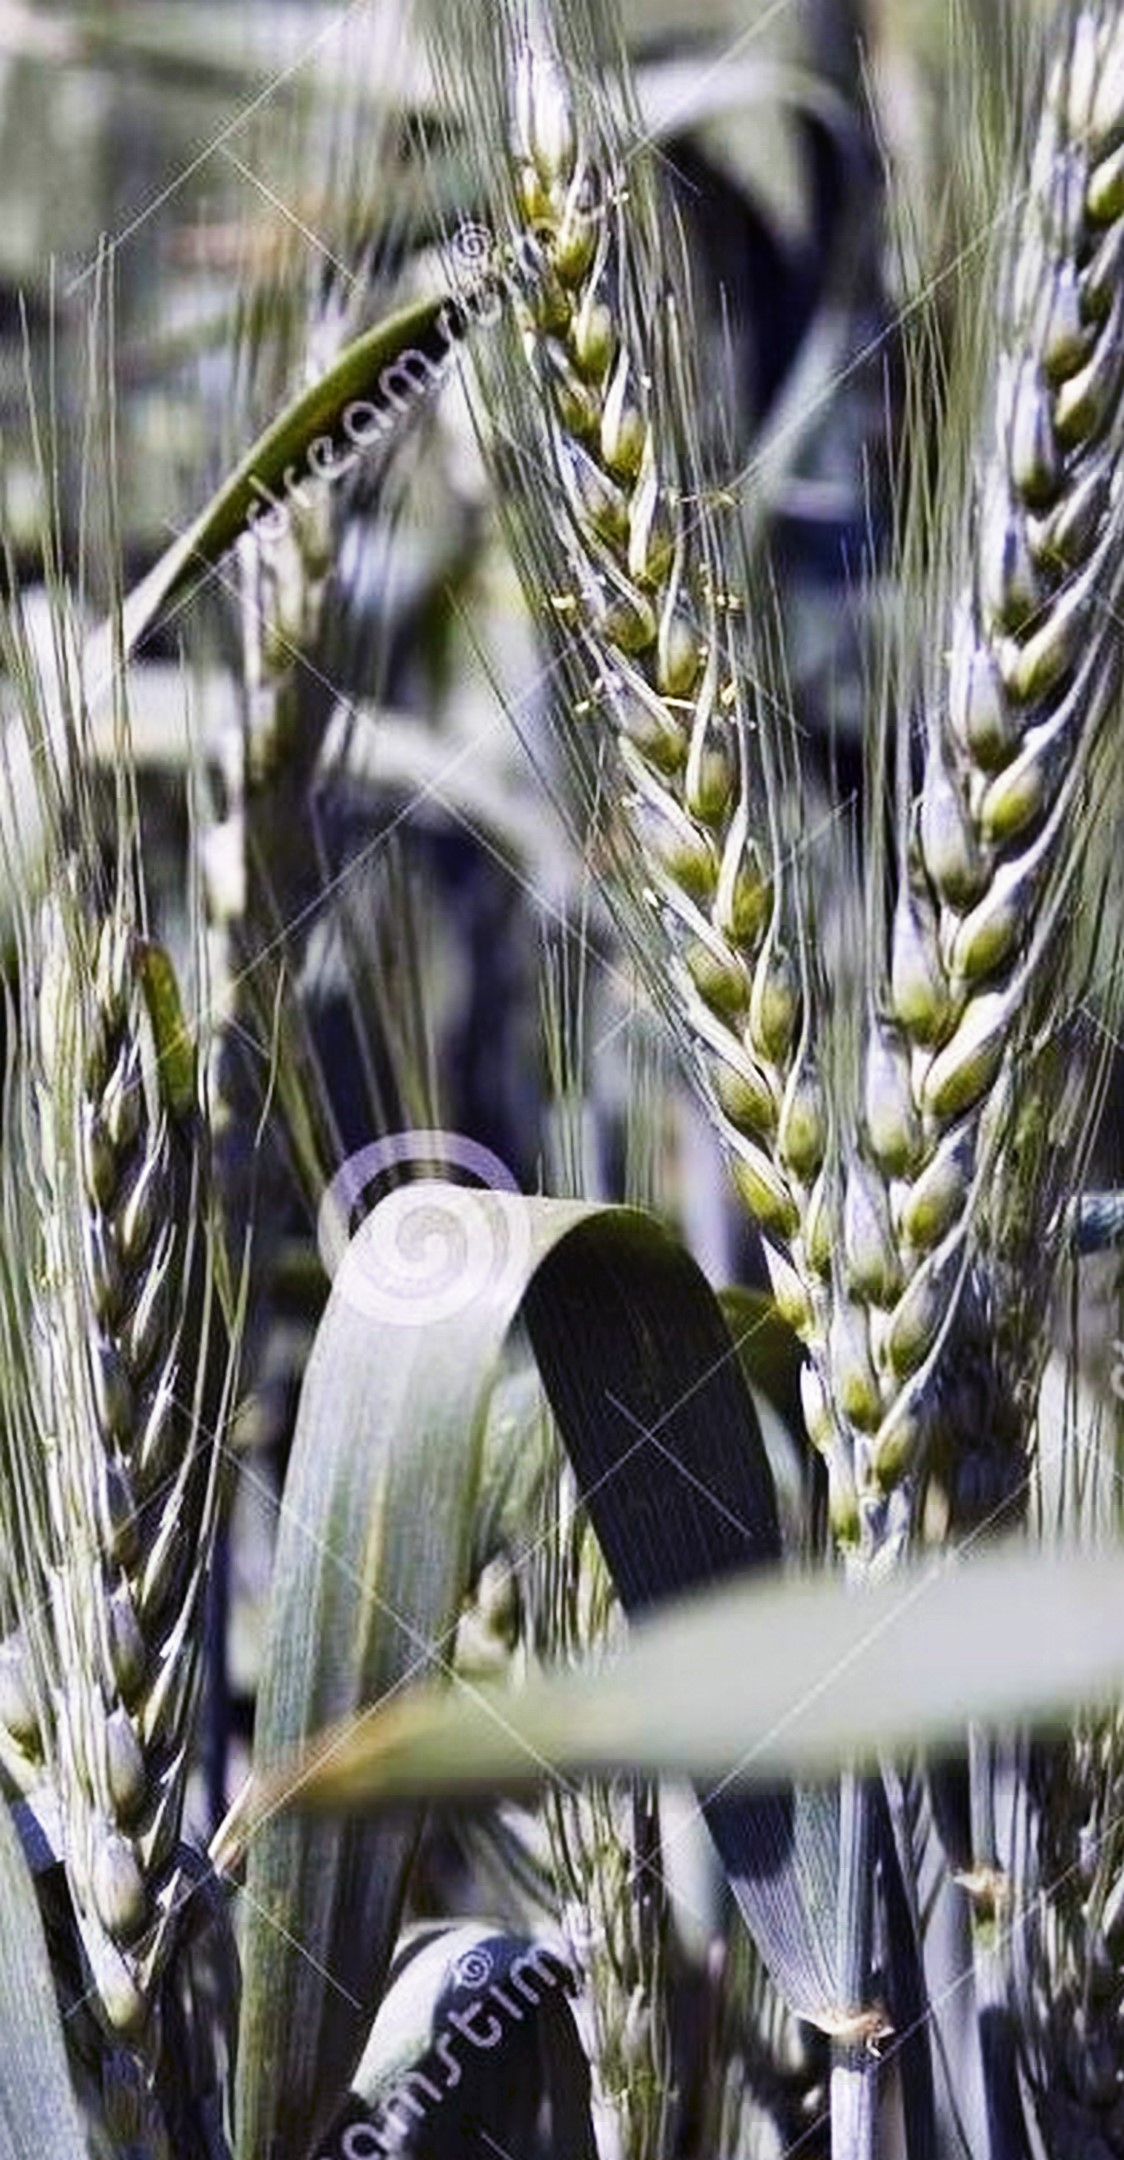Healthy Wheat: (506, 99, 847, 1209), (11, 774, 254, 2021)
